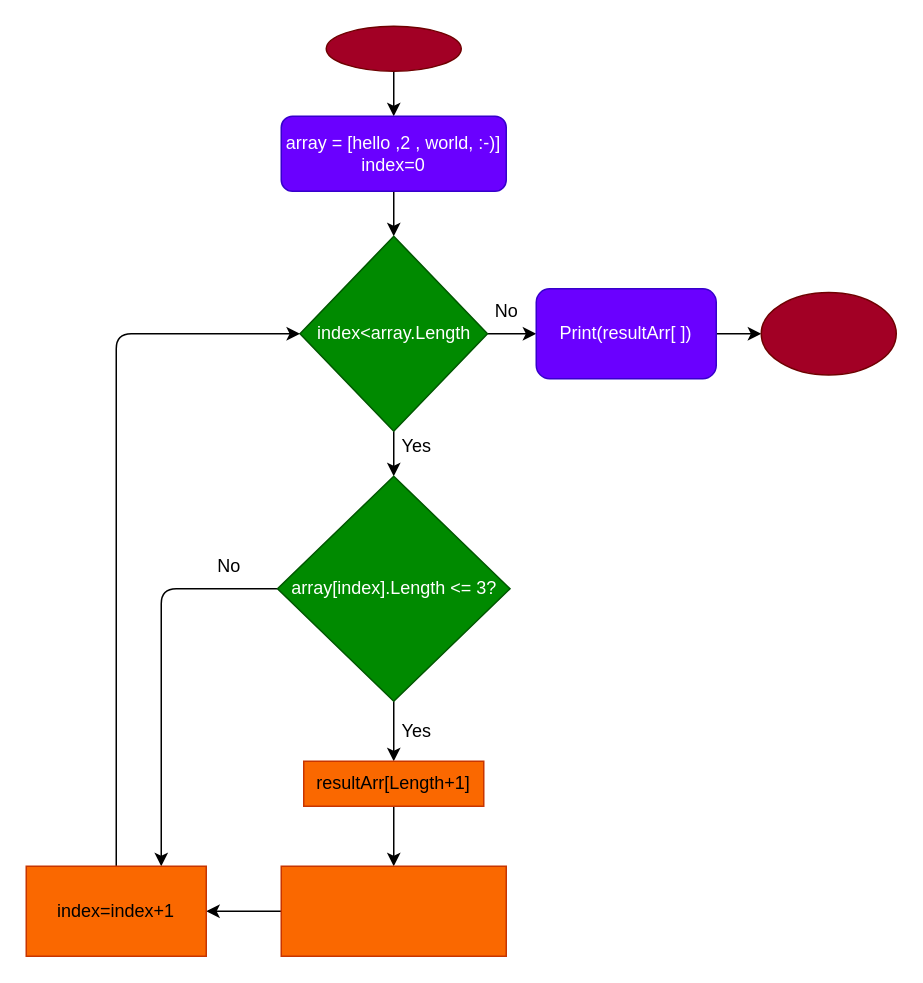
Image size: 923x983. Some labels were removed from this diagram. The centre of each missing label's shape, as x and y in pixels:
"END" goes at point (828, 333).
"resultArr[ ] = array[index]" goes at point (393, 910).
"Start" goes at point (393, 48).
